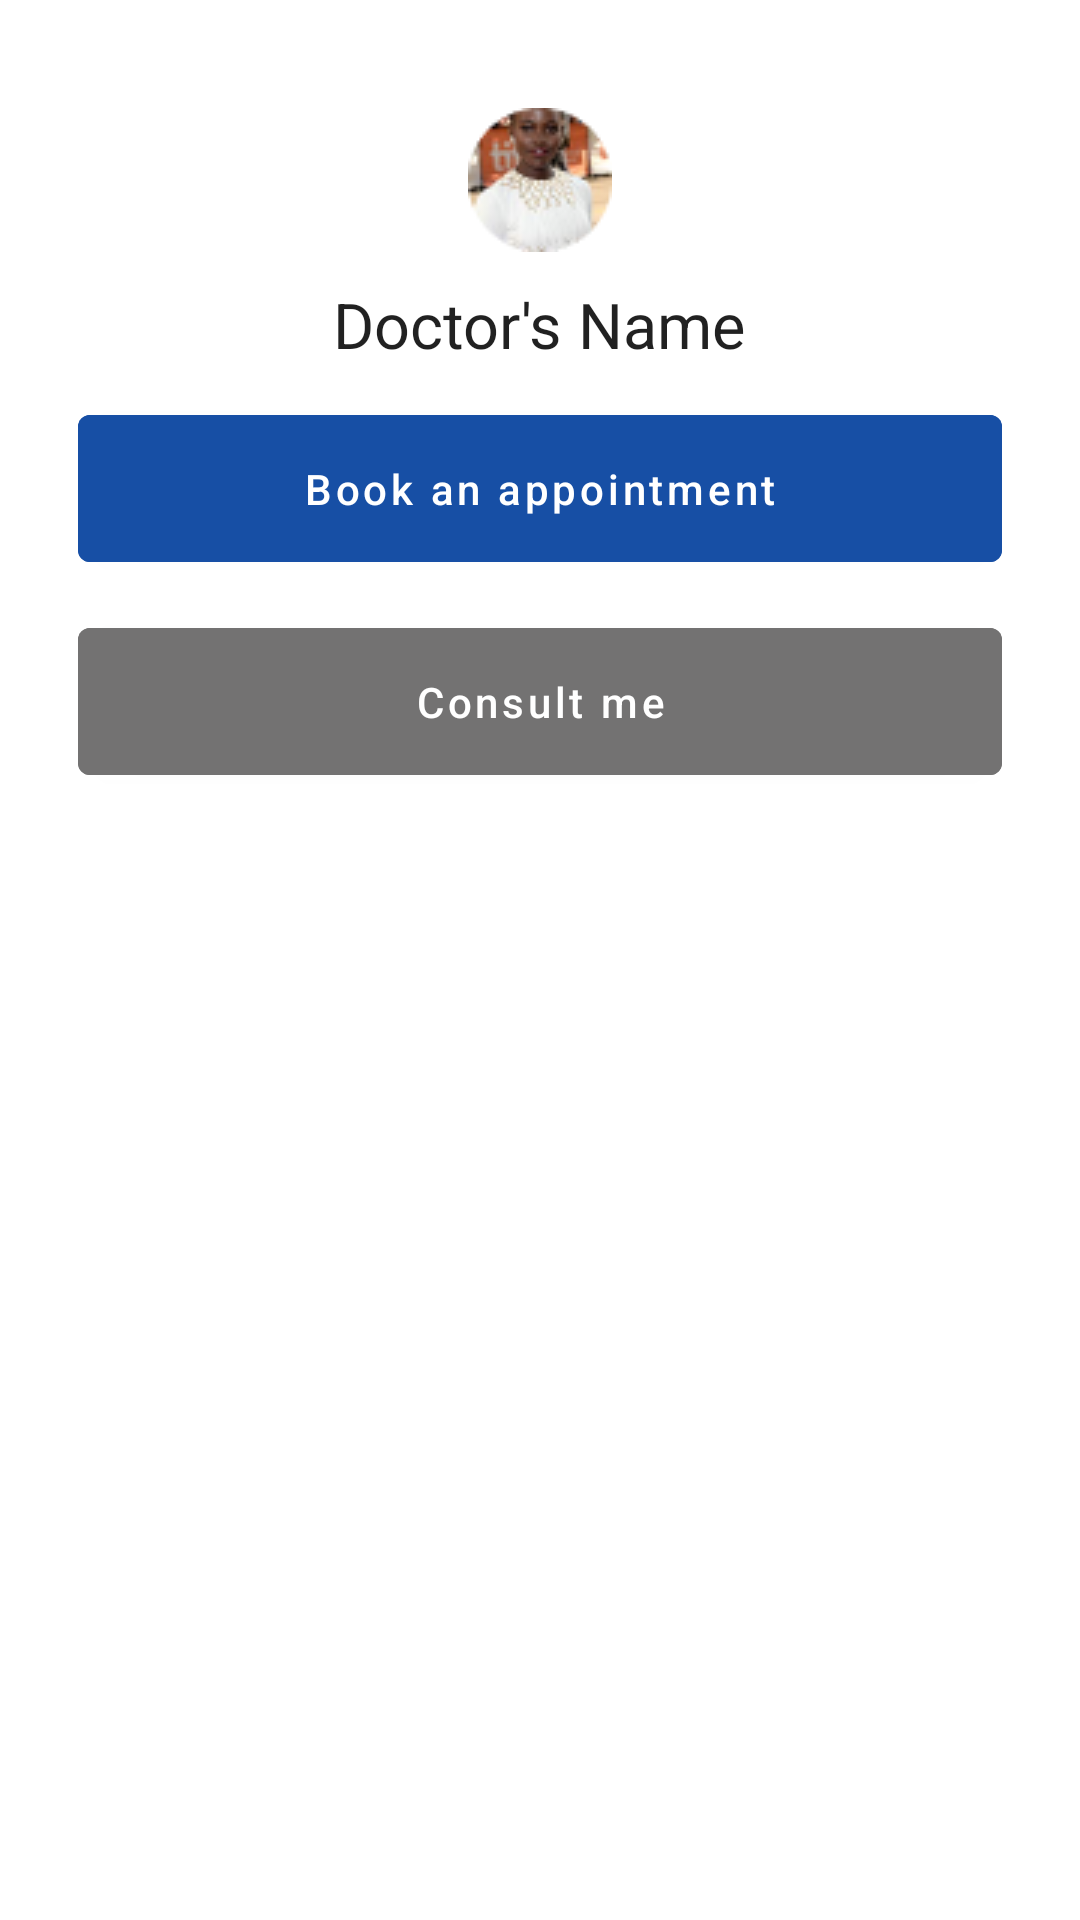

Icon bounding boxes for this 1080 × 1920 phone screenshot, format bbox(x1, y1, x2, y2):
profileimege: bbox(468, 108, 612, 252)
